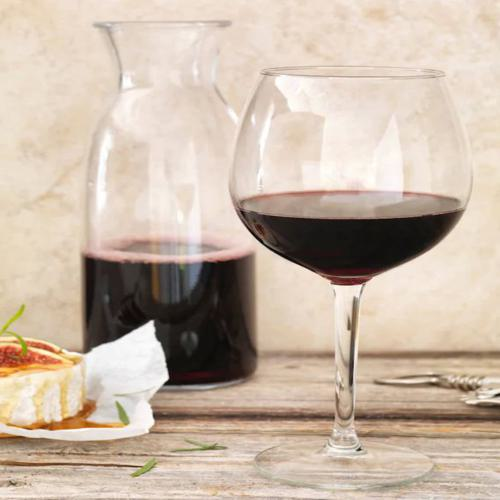copa: (232, 66, 477, 488)
